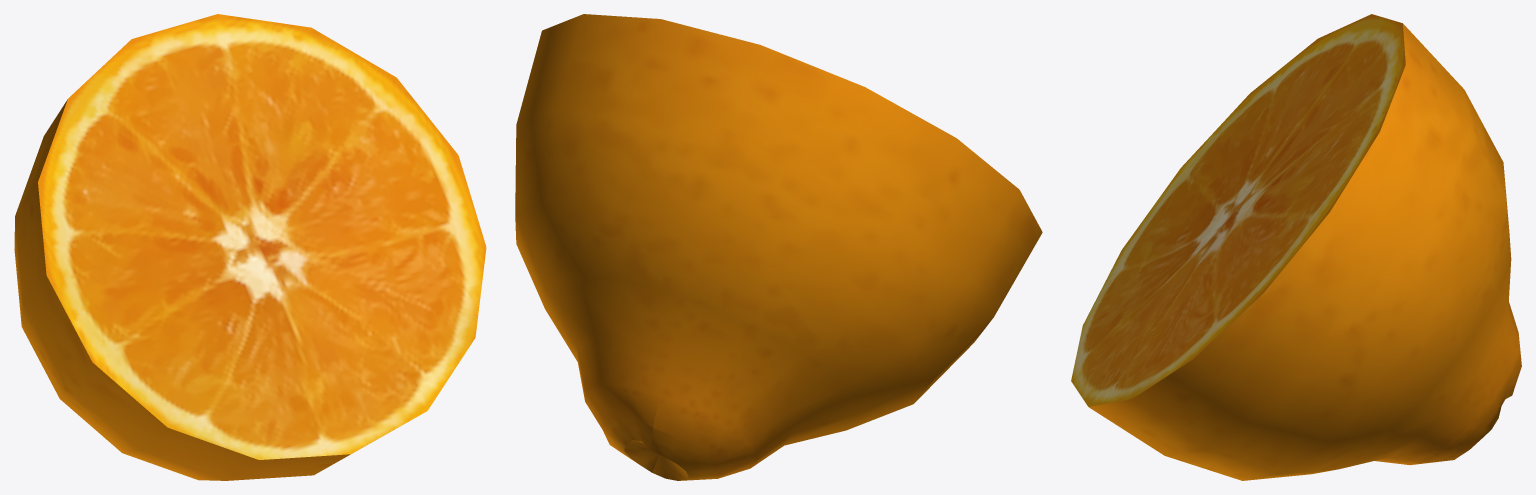
File: OrangeHalfEnd.fbx
The picture shows the model from 3 angles, left to right: view 1: azimuth 30°, elevation 25°; view 2: azimuth 150°, elevation 25°; view 3: azimuth 270°, elevation 25°; orthographic projection. The views are drawn at different scales.
Parts seen in each view (by area): view 1: Default_Layer; view 2: Default_Layer; view 3: Default_Layer.
Boxes of the visible parts, box(x1,y1,x2,y2) form: Default_Layer: box(14, 14, 486, 480); Default_Layer: box(515, 14, 1042, 480); Default_Layer: box(1071, 14, 1521, 480).
Bounding box in the file's own units: 132 × 118 × 118.
